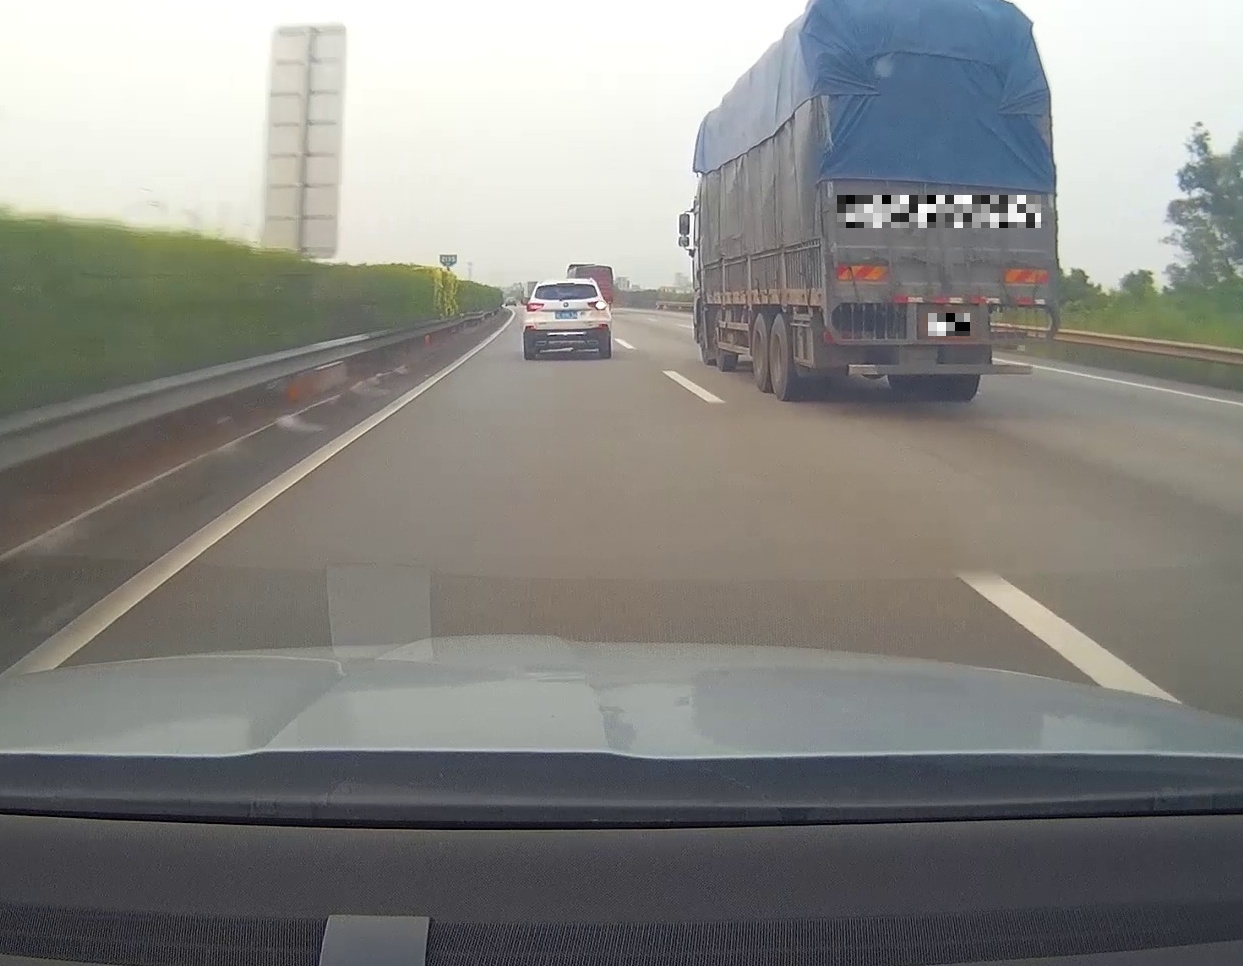L_light: (526, 303, 545, 312)
R_light: (587, 300, 606, 310)
T_light: (557, 282, 575, 287)
day-right: (523, 278, 611, 359)
plate_1: (837, 195, 1041, 228)
plate_2: (928, 313, 970, 336)
